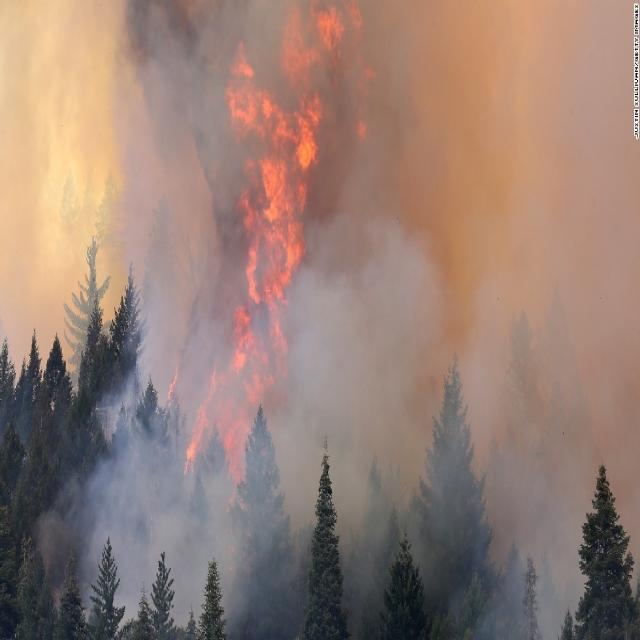Fire: (184, 0, 376, 511)
Smoke: (37, 0, 424, 640)
